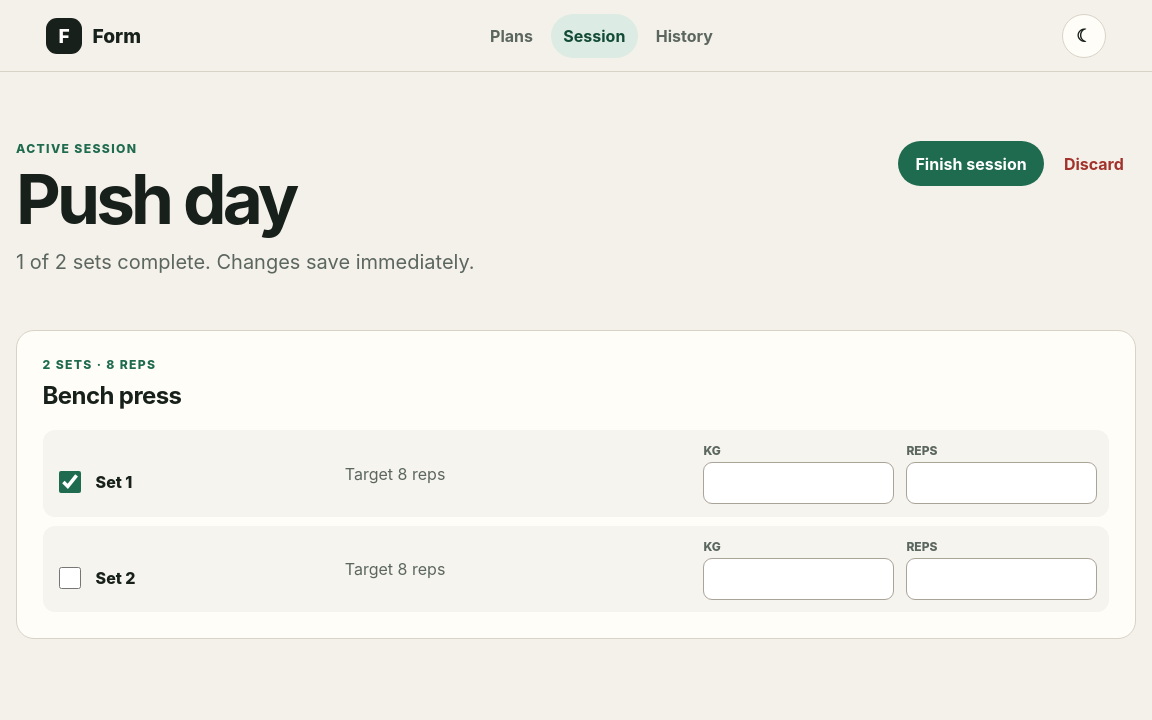
Session — US2: Complete a planned session › finishes a session and shows summary
Click the button "Finish session".
click(971, 164)  # box 898,141 -> 1044,186
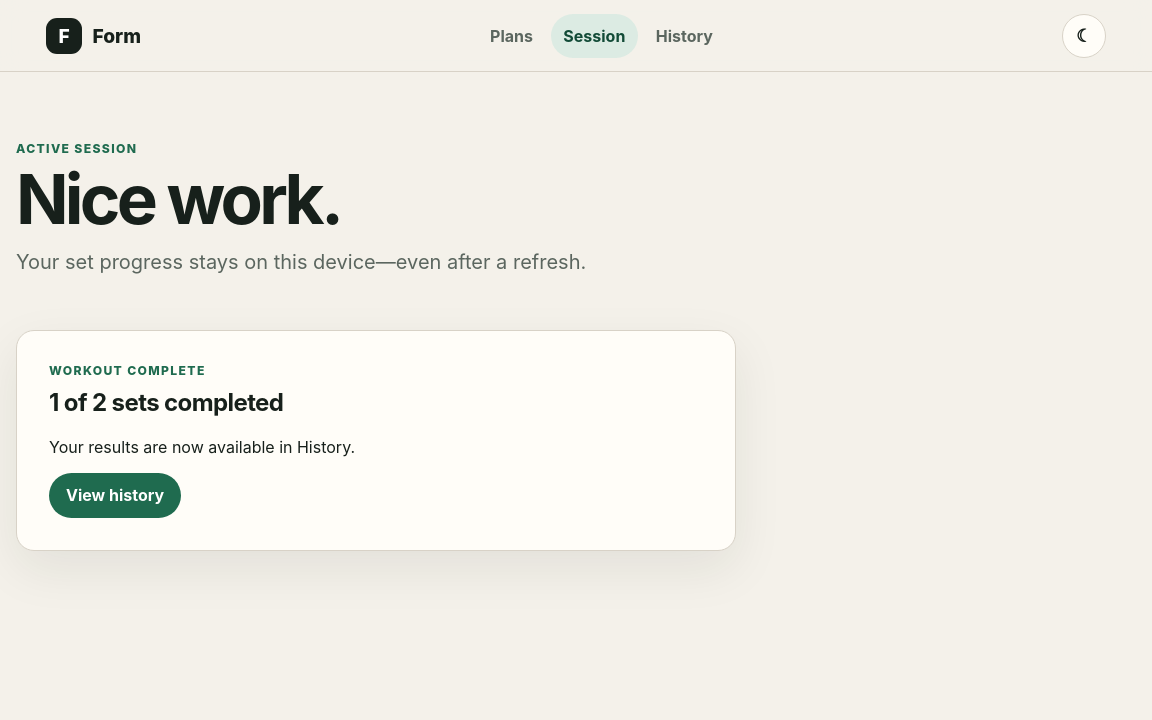
Now the heading "Nice work." is shown, box 16,157 -> 340,241
